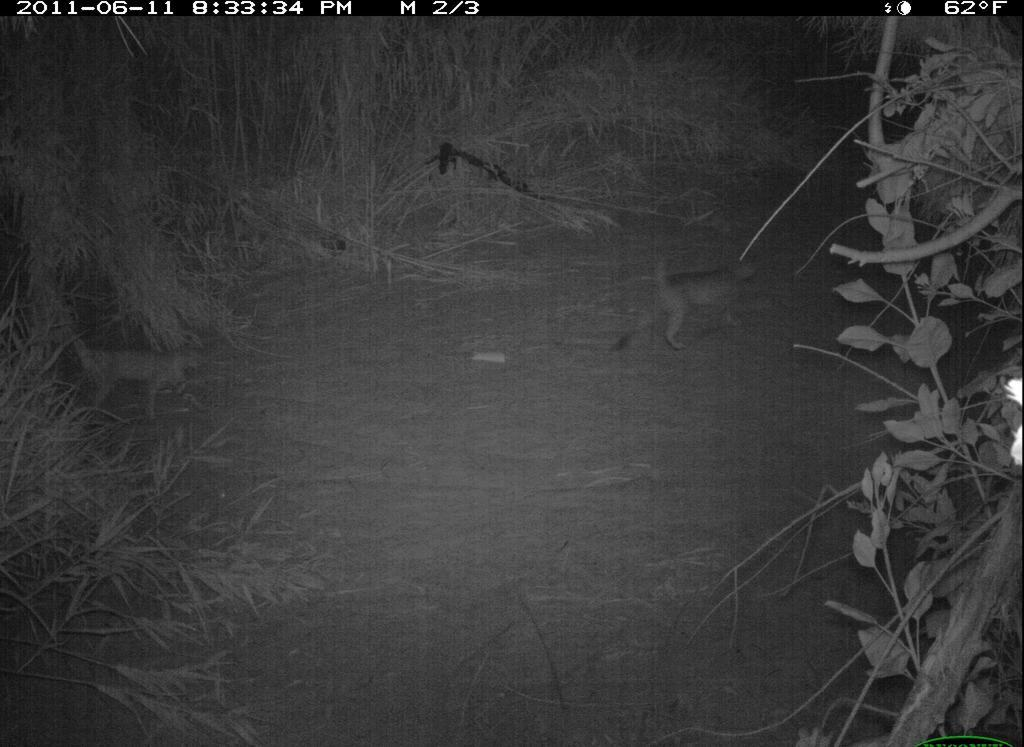bobcat: (610, 237, 769, 364)
